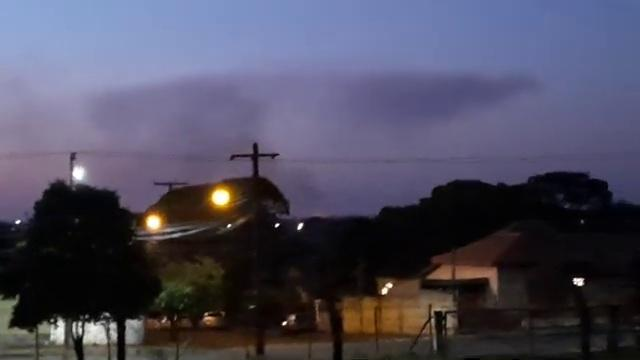smoke: (96, 97, 207, 149)
